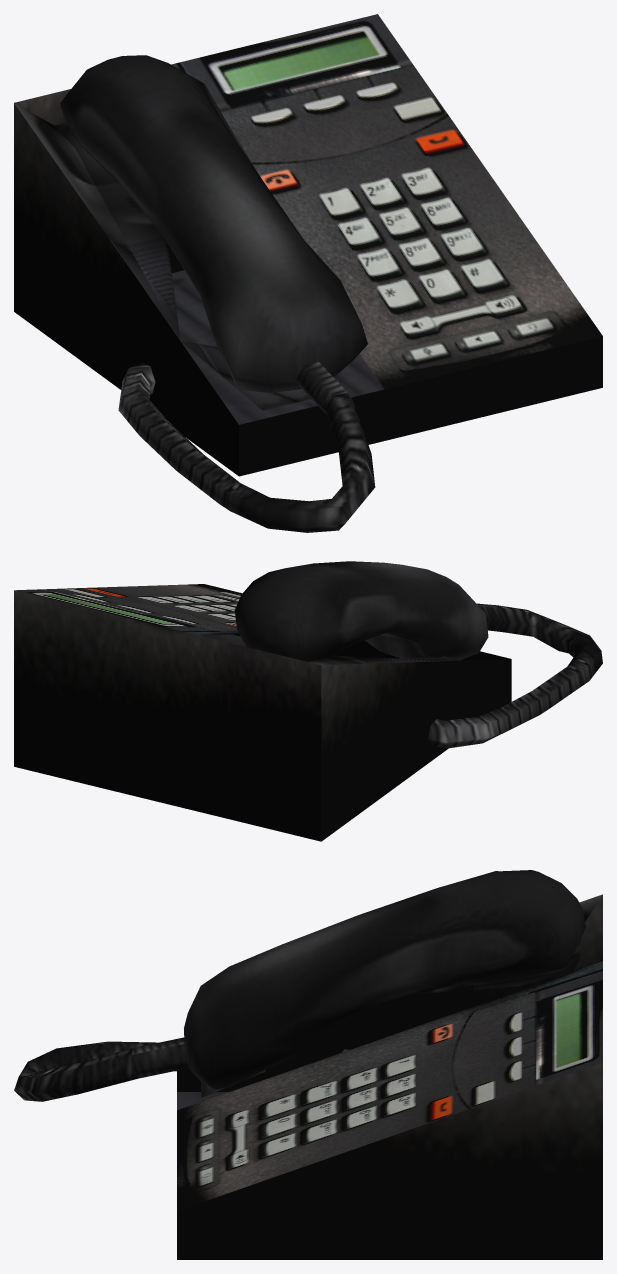
The model's file is phone 1_lod2.fbx.
The picture shows the model from 3 angles, top to bottom: view 1: azimuth 30°, elevation 25°; view 2: azimuth 150°, elevation 25°; view 3: azimuth 270°, elevation 25°; orthographic projection. The views are drawn at different scales.
Visible parts, largest first — view 1: polySurface2, polySurface3, pCylinder1; view 2: polySurface2, polySurface3, pCylinder1; view 3: polySurface2, polySurface3, pCylinder1.
Part boxes in pixels (left/top/right/bottom): polySurface2: left=14, top=14, right=602, bottom=476; polySurface3: left=60, top=55, right=367, bottom=393; pCylinder1: left=118, top=361, right=375, bottom=532; polySurface2: left=14, top=584, right=511, bottom=841; polySurface3: left=234, top=561, right=488, bottom=661; pCylinder1: left=428, top=603, right=602, bottom=748; polySurface2: left=177, top=894, right=602, bottom=1259; polySurface3: left=184, top=870, right=585, bottom=1089; pCylinder1: left=14, top=1037, right=348, bottom=1101.
Bounding box in the file's own units: 1.62 × 0.963 × 2.07.
